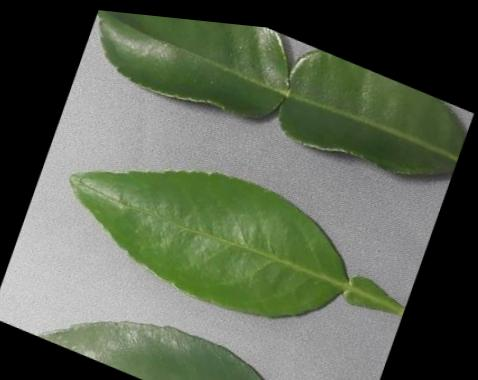Healthy Citrus: (39, 105, 430, 368), (76, 7, 476, 207), (9, 262, 376, 380)
